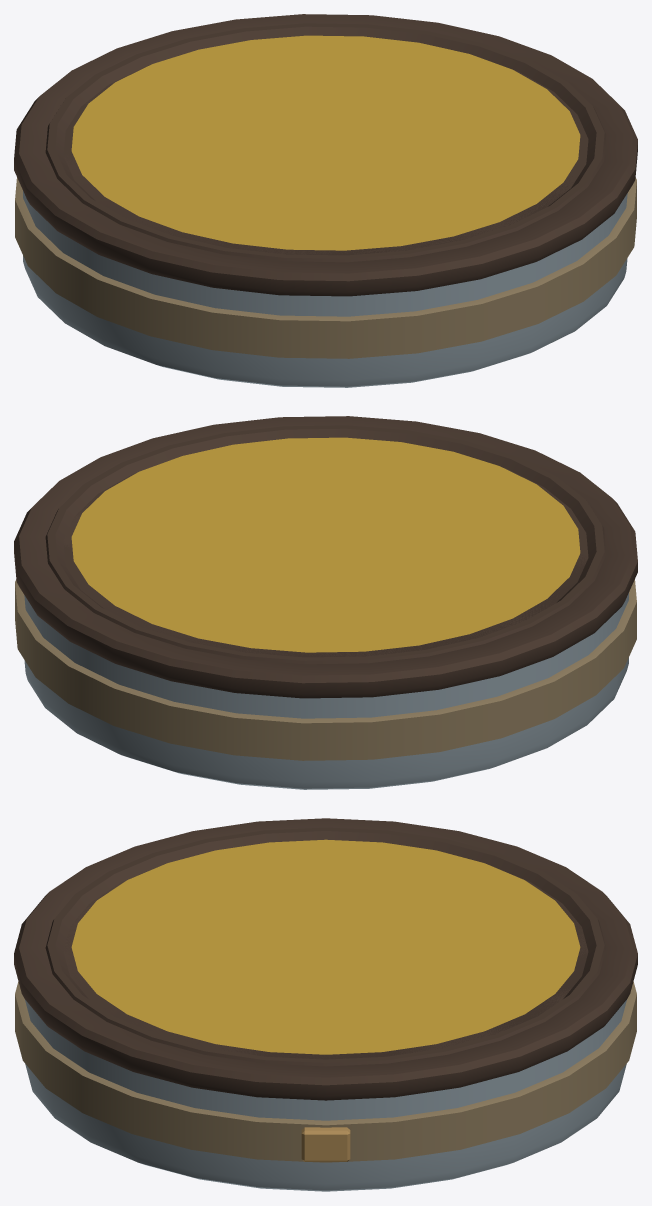
The model's file is film_can_1.glb.
3 views of the same model, one above another, from view 1: azimuth 30°, elevation 25°; view 2: azimuth 150°, elevation 25°; view 3: azimuth 270°, elevation 25° (orthographic).
Visible parts, largest first — view 1: film_can_1; view 2: film_can_1; view 3: film_can_1.
Boxes of the visible parts, left/top/right/bottom form: film_can_1: left=14, top=14, right=637, bottom=387; film_can_1: left=14, top=416, right=637, bottom=789; film_can_1: left=14, top=818, right=637, bottom=1191.
Bounding box in the file's own units: 0.3135 × 0.0675 × 0.309.
